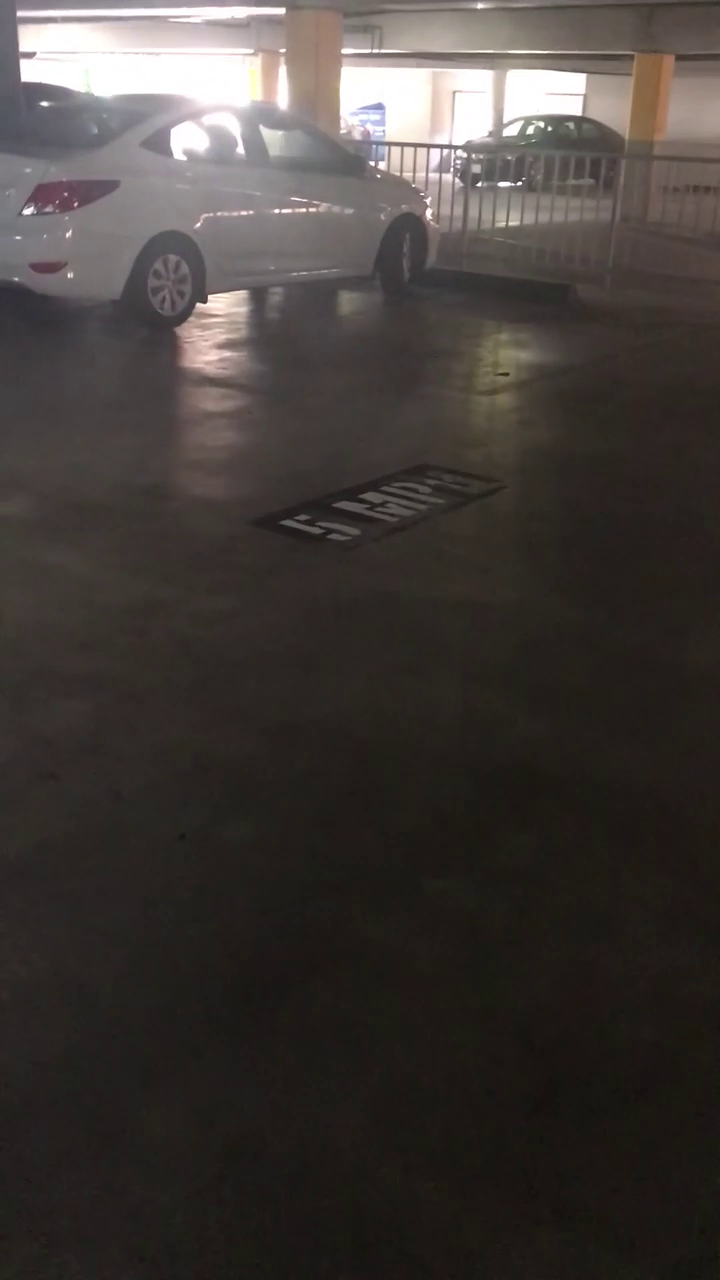car: (3, 78, 423, 335), (5, 123, 237, 322)
